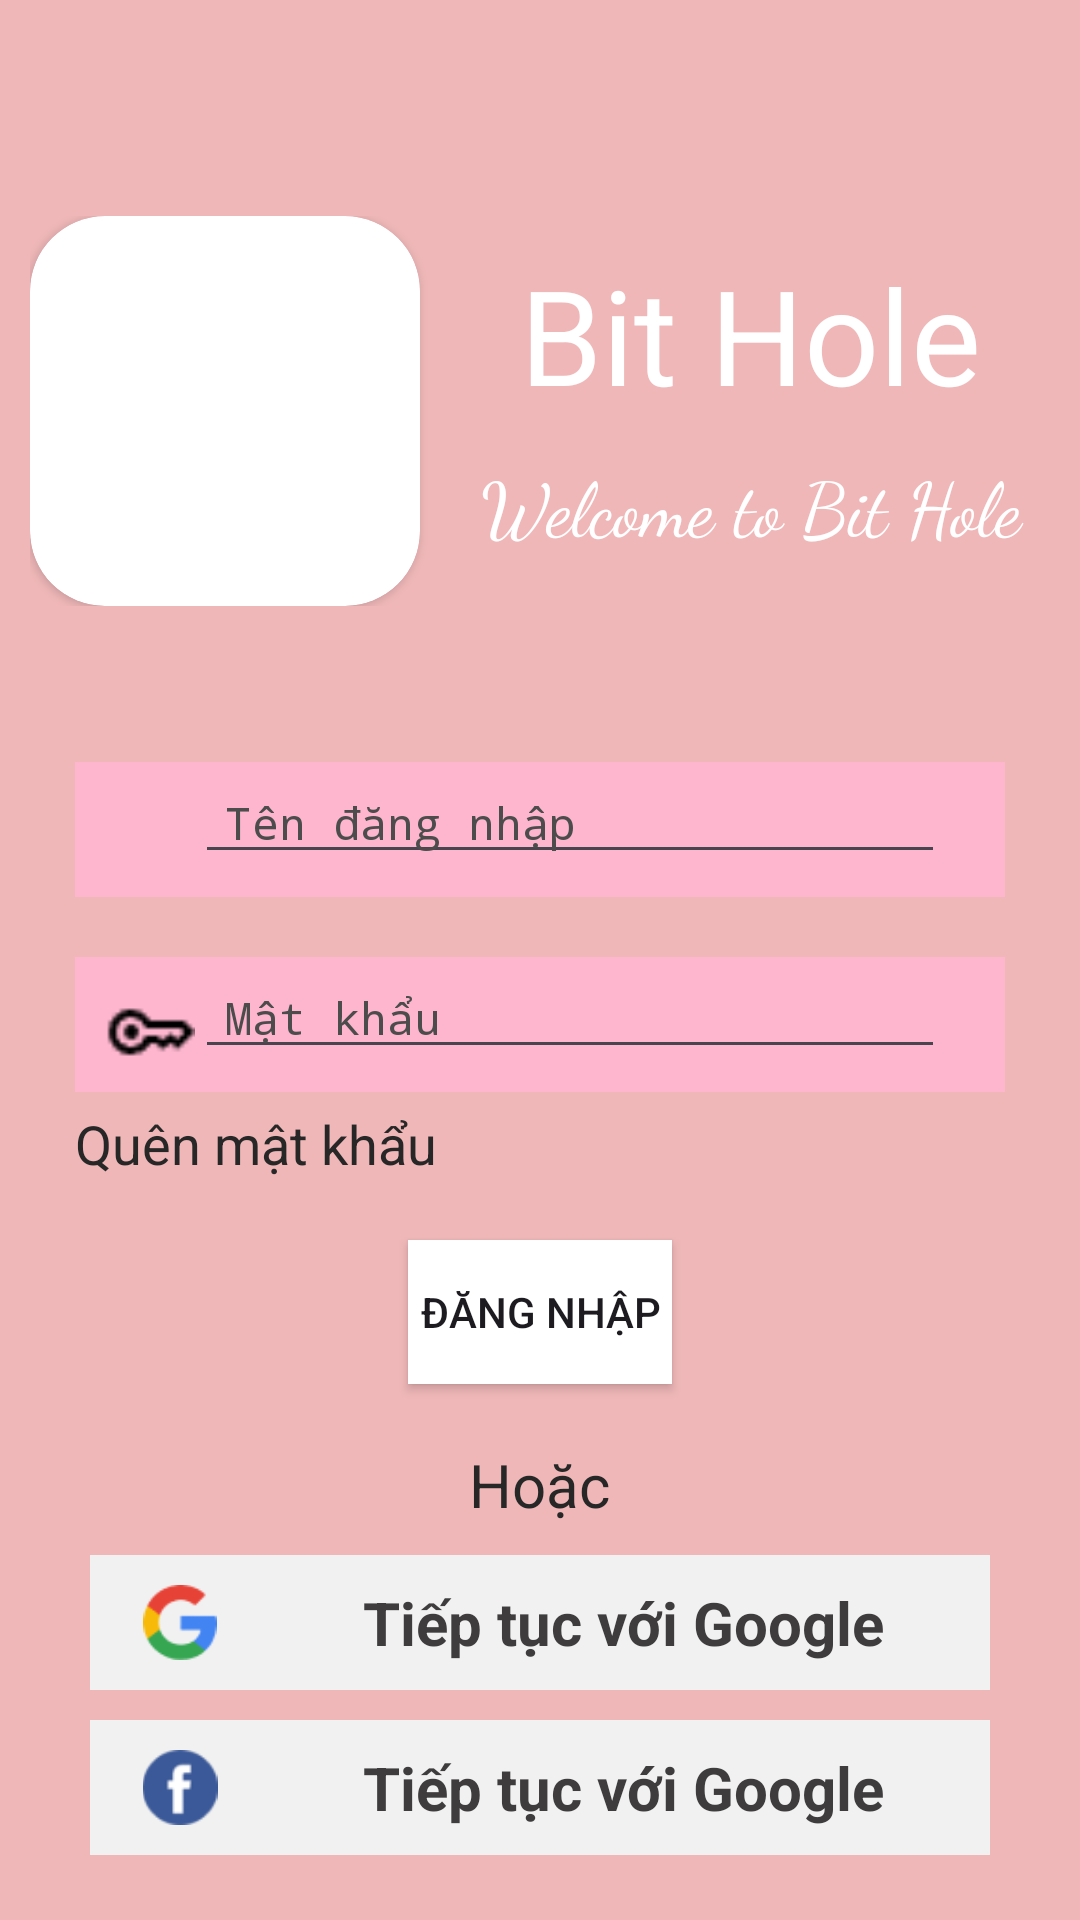

Screen size 1080 x 1920. Icon name, then its center in pixels as (x,y):
password: (151,1032)
